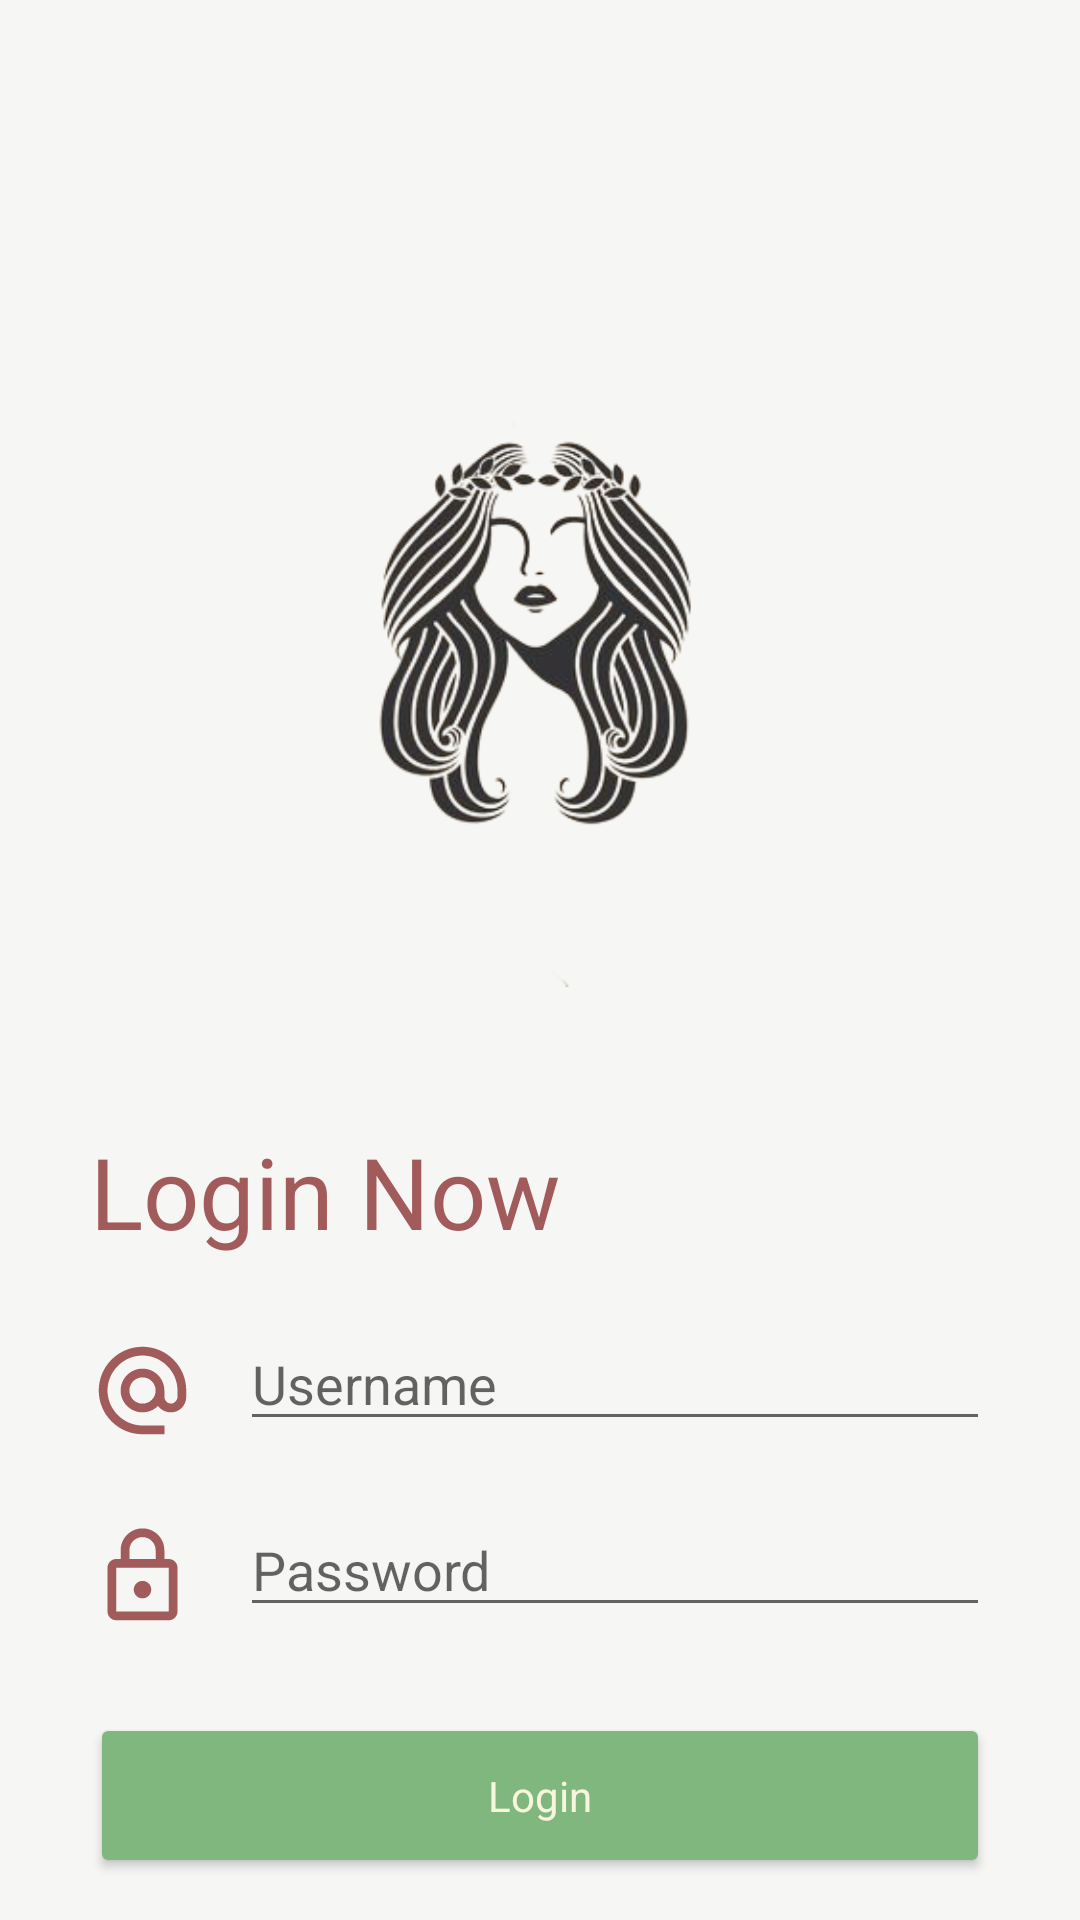

Screen size 1080 x 1920. Icon name, then its box in pixels as bbox(x1, y1, x2, y2):
alternate email: bbox(98, 1346, 187, 1435)
lock: bbox(107, 1528, 178, 1621)
